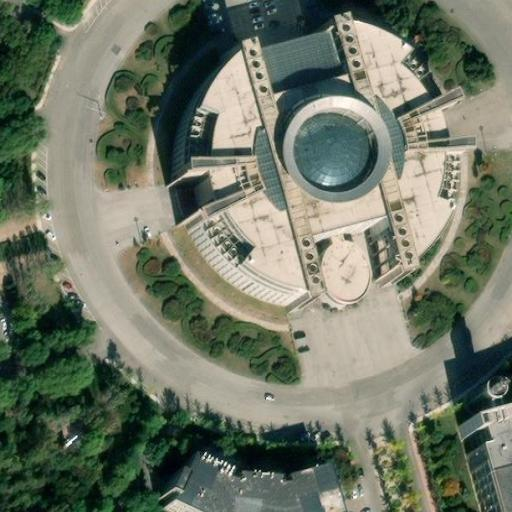building: (186, 11, 481, 294), (156, 463, 324, 512), (459, 385, 512, 511), (323, 225, 368, 299)
